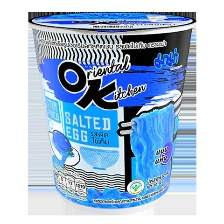paper_cup: (25, 9, 197, 214)
